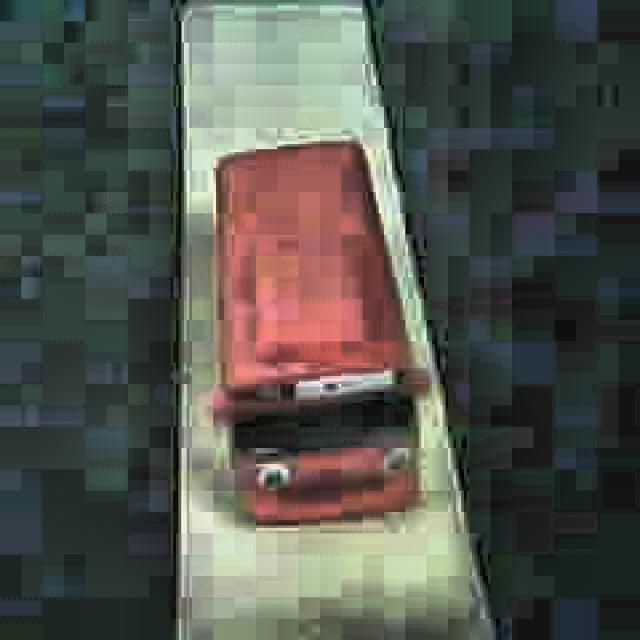bus: (209, 138, 431, 530)
